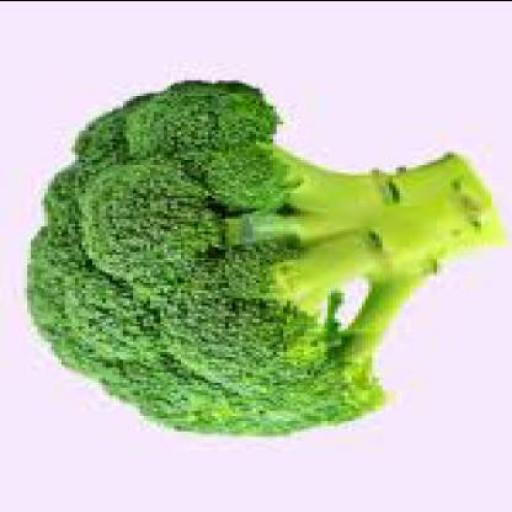biodegradable: (21, 75, 491, 430)
